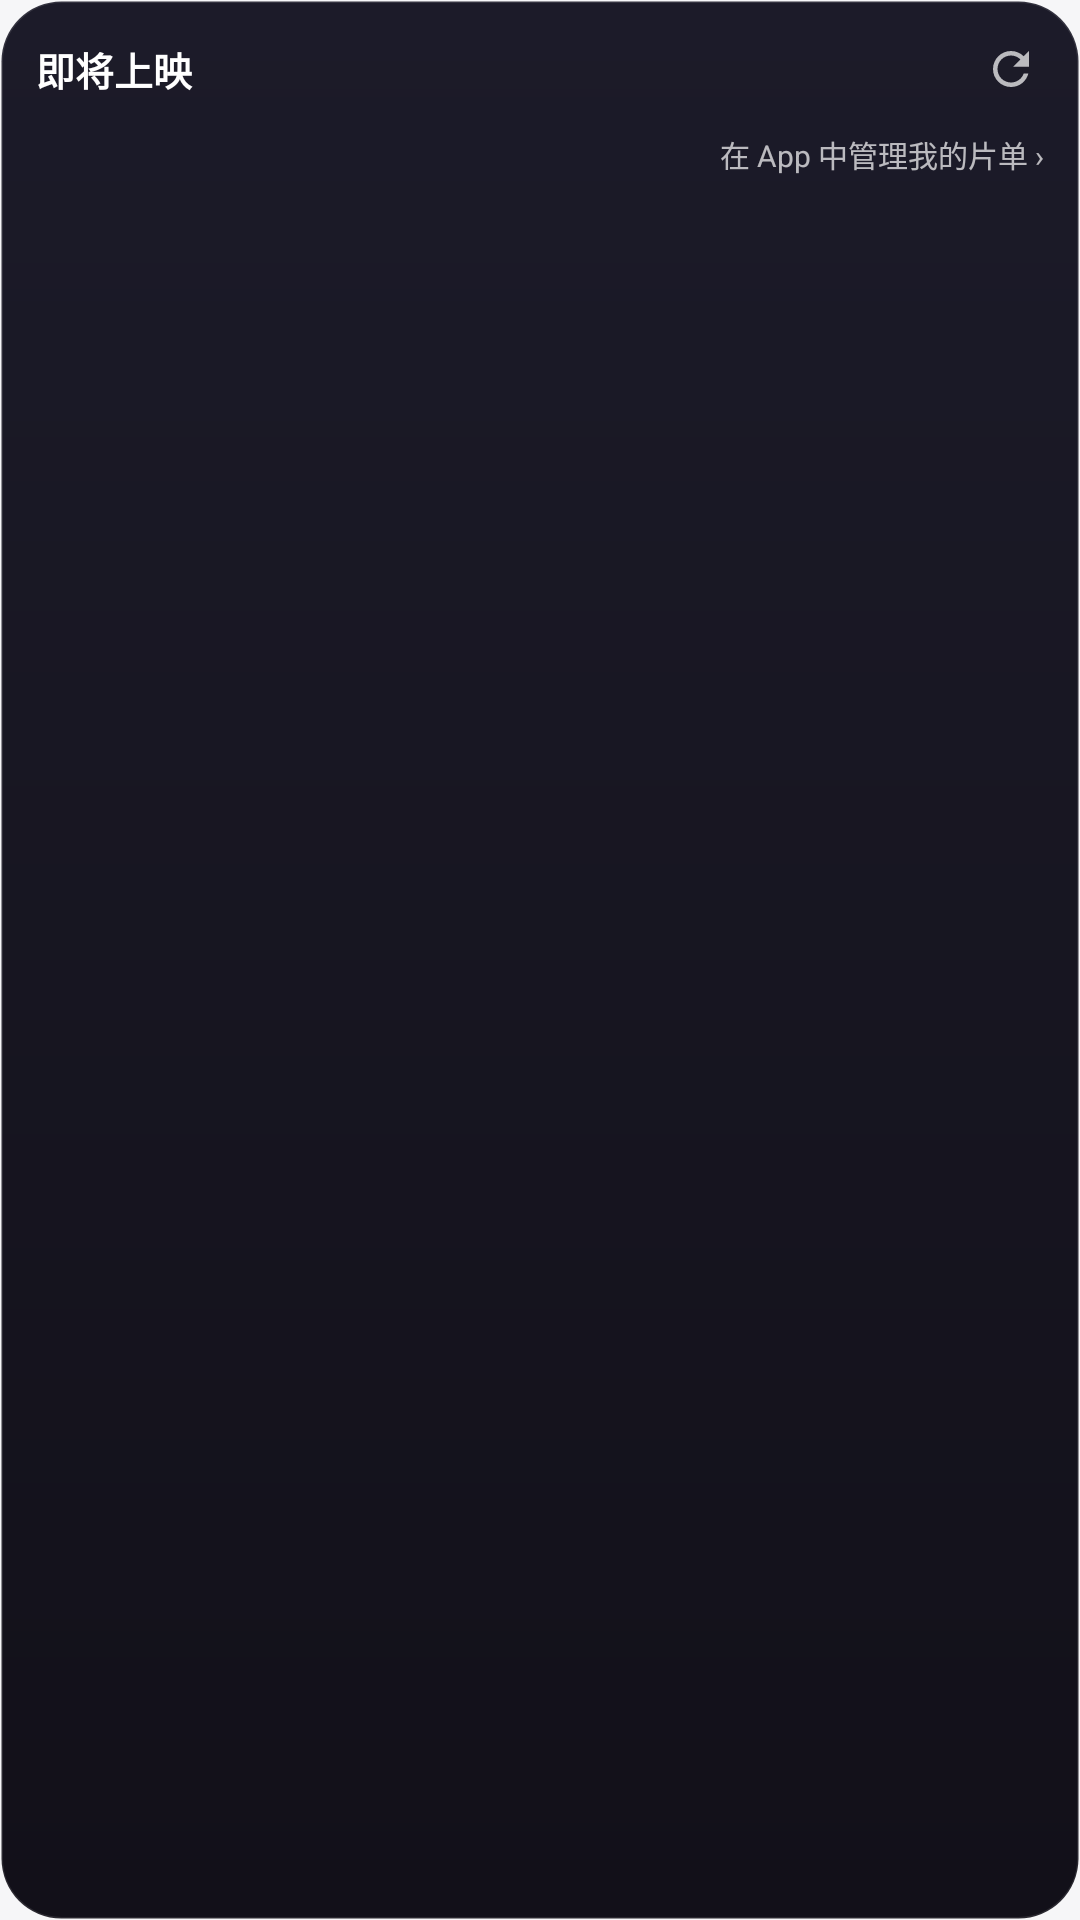

Icons on this 1080w x 1920h Android screen, each with the point to tap as (x=x, y=y):
刷新: (x=1011, y=69)
